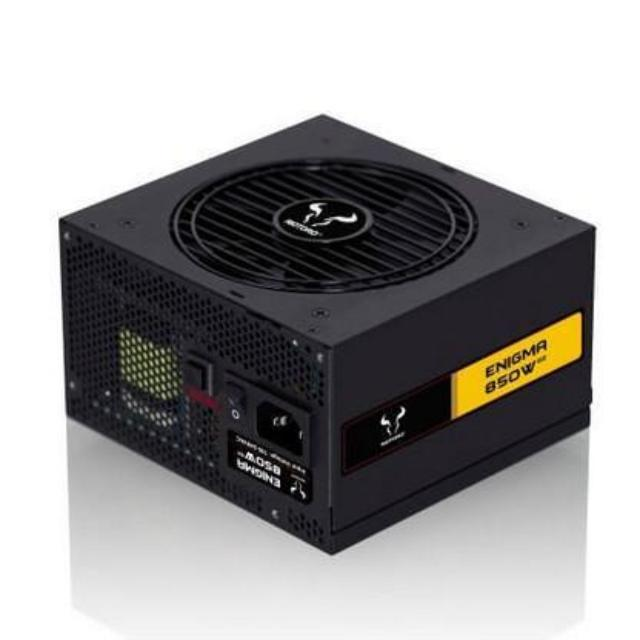PSU: (34, 98, 602, 584)
